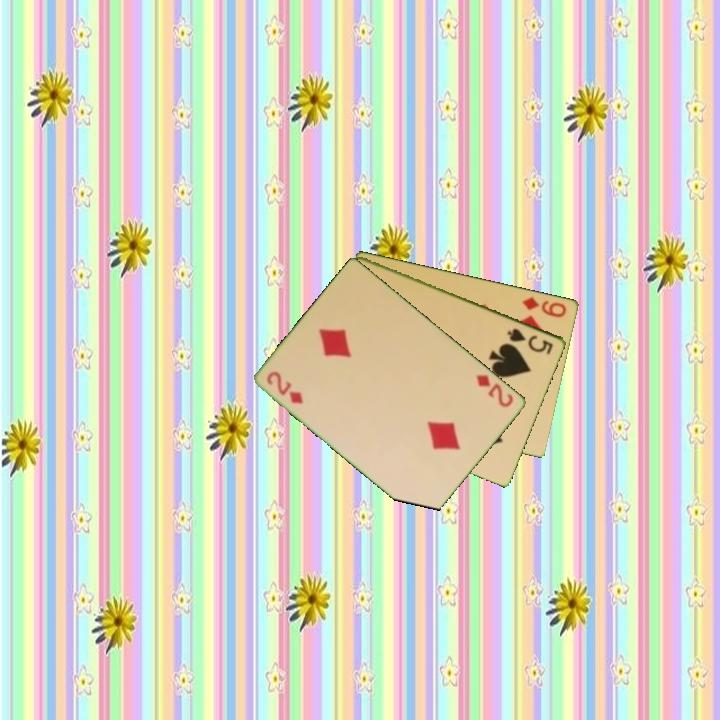2d: (263, 367, 307, 407), (473, 371, 517, 410)
5s: (504, 324, 556, 357)
9d: (519, 293, 570, 320)
